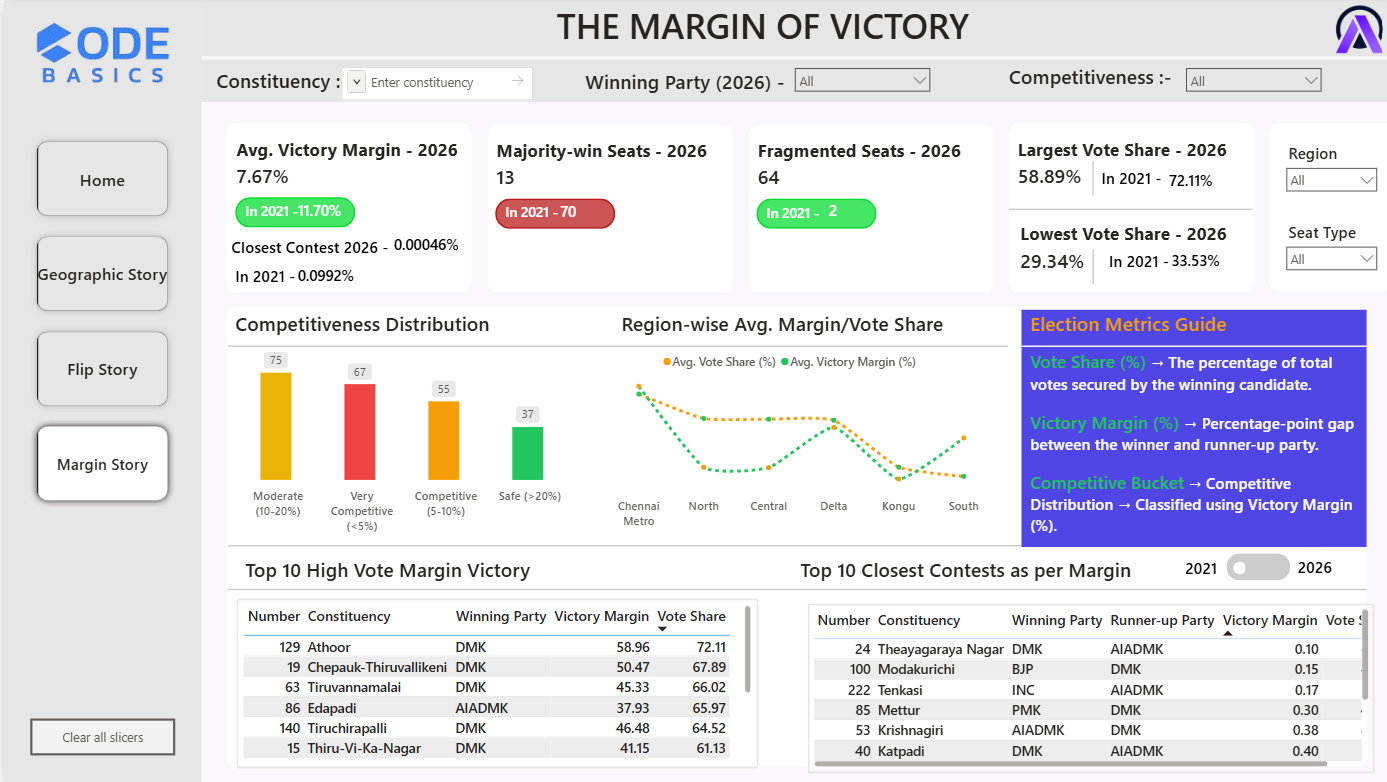

Layout of this report page (visuals, bound fields, positions):
{"tool":"powerbi","page":{"name":"Margin Story","canvas":[1920,1080],"ordinal":3},"visuals":[{"type":"shape","box":[307.3,421.8,1572.7,634.5],"z":0},{"type":"shape","box":[1385.5,169.1,338.2,232.7],"z":1000},{"type":"shape","box":[307.3,169.1,338.2,232.7],"z":2000},{"type":"shape","box":[0,0,272.7,1080],"z":3000},{"type":"cardVisual","fields":{"Data":["key_measures.avg_victory_margin2026"]},"box":[320,172.7,325.5,101.8],"z":4000},{"type":"shape","box":[272.7,81.8,1647.3,58.2],"z":5000},{"type":"shape","box":[272.7,0,1647.3,76.4],"z":6000},{"type":"textbox","box":[761.8,0,596.4,76.4],"z":7000},{"type":"shape","box":[318.2,270.9,165.5,41.8],"z":8000},{"type":"textbox","box":[332,276,89.1,40],"z":9000},{"type":"cardVisual","fields":{"Data":["key_measures.avg_victory_margin2021"]},"box":[406,262,90.9,50.9],"z":10000},{"type":"shape","box":[667.3,170.9,338.2,230.9],"z":11000},{"type":"cardVisual","fields":{"Data":["key_measures.majority_wincount2026"]},"box":[679.5,173.6,325.5,101.8],"z":12000},{"type":"shape","box":[677.7,271.8,165.5,41.8],"z":13000},{"type":"textbox","box":[691.5,276.9,89.1,40],"z":14000},{"type":"cardVisual","fields":{"Data":["key_measures.majority_wincount2021"]},"box":[767.9,264.6,90.9,50.9],"z":15000},{"type":"shape","box":[1027.3,170.9,338.2,230.9],"z":16000},{"type":"cardVisual","fields":{"Data":["key_measures.fragment_wincount2026"]},"box":[1039.9,173.7,325.5,101.8],"z":17000},{"type":"shape","box":[1038.1,271.8,165.5,41.8],"z":18000},{"type":"textbox","box":[1052.4,279.3,89.6,39.6],"z":19000},{"type":"cardVisual","fields":{"Data":["key_measures.large_victory2021"]},"box":[1607.7,220.8,91.7,50],"z":20000},{"type":"cardVisual","fields":{"Data":["key_measures.largest_victory2026"]},"box":[1398.5,172.7,325.5,101.8],"z":21000},{"type":"shape","box":[1488.9,220.8,25,47.9],"z":22000},{"type":"cardVisual","fields":{"Data":["key_measures.fragment_wincount2021"]},"box":[1137.8,262.6,91.7,50],"z":23000},{"type":"textbox","box":[1513.9,229.2,114.6,31.2],"z":24000},{"type":"cardVisual","fields":{"Data":["key_measures.lowest_margin2026"]},"box":[1401.1,288,327.3,103.6],"z":25000},{"type":"shape","box":[1489.1,343.6,25.5,47.3],"z":26000},{"type":"textbox","box":[1524.9,342.8,93.8,39.6],"z":27000},{"type":"cardVisual","fields":{"Data":["key_measures.lowest_margin2021"]},"box":[1610,331,91.7,50],"z":28000},{"type":"shape","box":[1385.5,281.8,336.4,12.7],"z":29000},{"type":"textbox","box":[313.1,324,270.9,36.4],"z":30000},{"type":"cardVisual","fields":{"Data":["key_measures.close_contest2026"]},"box":[538.5,309.5,90.9,50.9],"z":31000},{"type":"textbox","box":[318.2,363.6,100,30.9],"z":32000},{"type":"cardVisual","fields":{"Data":["key_measures.close_contest2021"]},"box":[405.5,350.9,134.5,50.9],"z":33000},{"type":"columnChart","title":"comp_bucket2026","fields":{"Category":["margin_2026.competitive_type"],"Y":["CountNonNull(margin_2026.constituency)"]},"box":[272.7,478.2,523.6,260],"z":34000},{"type":"tableEx","title":"Bottom10-2026","fields":{"Values":["margin_2026.ac_number","margin_2026.constituency","margin_2026.party_runner","margin_2026.party_winner","Sum(margin_2026.margin%)","Sum(margin_2026.winner_share%)"]},"box":[1098.2,821.8,781.8,234.5],"z":35000},{"type":"tableEx","title":"Top10-2026","fields":{"Values":["margin_2026.ac_number","margin_2026.constituency","margin_2026.party_winner","Sum(margin_2026.margin%)","Sum(margin_2026.winner_share%)"]},"box":[320,821.8,720,234.5],"z":36000},{"type":"shape","box":[309.1,472.7,1076.4,7.3],"z":37000},{"type":"textbox","box":[318.2,425.5,396.4,56.4],"z":38000},{"type":"textbox","box":[850.9,425.5,474.5,56.4],"z":39000},{"type":"lineChart","title":"victory/margin2026","fields":{"Category":["margin_2026.region"],"Y":["Avg(margin_2026.winner_share%)"],"Y2":["Avg(margin_2026.margin%)"]},"box":[800,476.4,570.9,260],"z":40000},{"type":"shape","box":[309.1,801.8,1570.9,20],"z":43000},{"type":"textbox","box":[332.7,765.5,396.4,56.4],"z":44000},{"type":"textbox","box":[1098,765.5,460,47.3],"z":45000},{"type":"shape","box":[309.1,741.8,1510.9,20],"z":46000},{"type":"shape","box":[1403.6,425.5,476.4,327.3],"z":47000},{"type":"textbox","box":[1416.4,481.8,463.6,307.3],"z":48000},{"type":"shape","box":[1403.6,470.9,476.4,10.9],"z":49000},{"type":"textbox","box":[1416.4,425.5,474.5,56.4],"z":50000},{"type":"image","box":[0,9.1,272.7,125.5],"z":51000},{"type":"image","box":[1823.6,0,96.4,76.4],"z":52000},{"type":"actionButton","box":[36.4,989.1,200,50.9],"z":53000},{"type":"pageNavigator","box":[36.4,183.6,200,514.5],"z":54000},{"type":"textbox","box":[801.8,92.7,316.4,52.7],"z":55000},{"type":"slicer","fields":{"Values":["margin_2021.party_winner"]},"box":[1085.5,87.3,196.4,47.3],"z":56000},{"type":"textbox","box":[292.7,90.9,203.6,52.7],"z":57000},{"type":"textSlicer","fields":{"Values":["margin_2026.constituency"]},"box":[465.5,90.9,263.6,45.5],"z":58000},{"type":"textbox","box":[1385.5,85.5,243.6,49.1],"z":59000},{"type":"slicer","fields":{"Values":["margin_2026.competitive_type"]},"box":[1625.5,87.3,196.4,47.3],"z":60000},{"type":"shape","box":[1745.5,169.1,174.5,230.9],"z":61000},{"type":"slicer","fields":{"Values":["margin_2026.region"]},"box":[1758.2,189.1,145.5,83.6],"z":62000},{"type":"slicer","fields":{"Values":["margin_2026.reserved"]},"box":[1758.2,298.2,145.5,83.6],"z":63000},{"type":"bookmarkNavigator","box":[1685.5,761.8,88,37],"z":66000},{"type":"textbox","box":[1785,765,54.5,40],"z":67000},{"type":"textbox","box":[1629.1,767.3,54.5,34.5],"z":68000}]}

Visuals, with their boxes in screenshot pixels (x1, y1, x2, y2), scaled from the page's 1920x1080 canvas onto the 1387x782 screenshot:
shape: (222,305,1358,765)
shape: (1001,122,1245,291)
shape: (222,122,466,291)
shape: (0,0,197,781)
cardVisual - key_measures.avg_victory_margin2026: (231,125,466,199)
shape: (197,59,1386,101)
shape: (197,0,1386,55)
textbox: (550,0,981,55)
shape: (230,196,349,226)
textbox: (240,200,304,229)
cardVisual - key_measures.avg_victory_margin2021: (293,190,359,227)
shape: (482,124,726,291)
cardVisual - key_measures.majority_wincount2026: (491,126,726,199)
shape: (490,197,609,227)
textbox: (500,200,564,229)
cardVisual - key_measures.majority_wincount2021: (555,192,620,228)
shape: (742,124,986,291)
cardVisual - key_measures.fragment_wincount2026: (751,126,986,199)
shape: (750,197,869,227)
textbox: (760,202,825,231)
cardVisual - key_measures.large_victory2021: (1161,160,1228,196)
cardVisual - key_measures.largest_victory2026: (1010,125,1245,199)
shape: (1076,160,1094,195)
cardVisual - key_measures.fragment_wincount2021: (822,190,888,226)
textbox: (1094,166,1176,189)
cardVisual - key_measures.lowest_margin2026: (1012,209,1249,284)
shape: (1076,249,1094,283)
textbox: (1102,248,1169,277)
cardVisual - key_measures.lowest_margin2021: (1163,240,1229,276)
shape: (1001,204,1244,213)
textbox: (226,235,422,261)
cardVisual - key_measures.close_contest2026: (389,224,455,261)
textbox: (230,263,302,286)
cardVisual - key_measures.close_contest2021: (293,254,390,291)
"comp_bucket2026" columnChart: (197,346,575,535)
"Bottom10-2026" tableEx: (793,595,1358,765)
"Top10-2026" tableEx: (231,595,751,765)
shape: (223,342,1001,348)
textbox: (230,308,516,349)
textbox: (615,308,957,349)
"victory/margin2026" lineChart: (578,345,990,533)
shape: (223,581,1358,595)
textbox: (240,554,527,595)
textbox: (793,554,1125,589)
shape: (223,537,1315,552)
shape: (1014,308,1358,545)
textbox: (1023,349,1358,571)
shape: (1014,341,1358,349)
textbox: (1023,308,1366,349)
image: (0,7,197,97)
image: (1317,0,1386,55)
actionButton: (26,716,171,753)
pageNavigator: (26,133,171,505)
textbox: (579,67,808,105)
slicer - margin_2021.party_winner: (784,63,926,97)
textbox: (211,66,359,104)
textSlicer - margin_2026.constituency: (336,66,527,99)
textbox: (1001,62,1177,97)
slicer - margin_2026.competitive_type: (1174,63,1316,97)
shape: (1261,122,1386,290)
slicer - margin_2026.region: (1270,137,1375,197)
slicer - margin_2026.reserved: (1270,216,1375,276)
bookmarkNavigator: (1218,552,1281,578)
textbox: (1289,554,1329,583)
textbox: (1177,556,1216,581)
